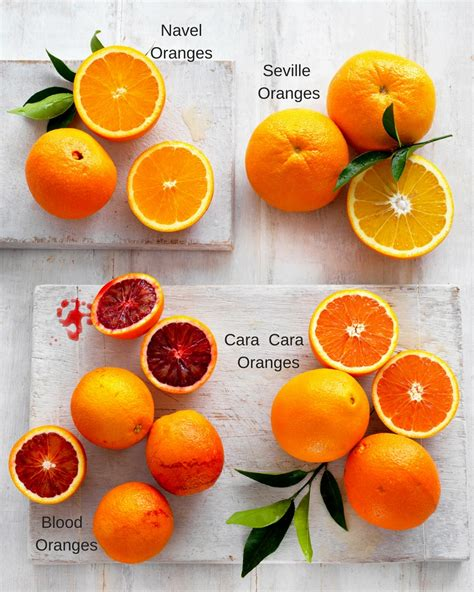orange: (262, 348, 369, 468), (244, 106, 351, 220), (336, 427, 448, 532), (331, 48, 439, 155), (21, 127, 117, 220), (139, 408, 227, 498), (87, 483, 176, 566), (70, 367, 156, 451)
